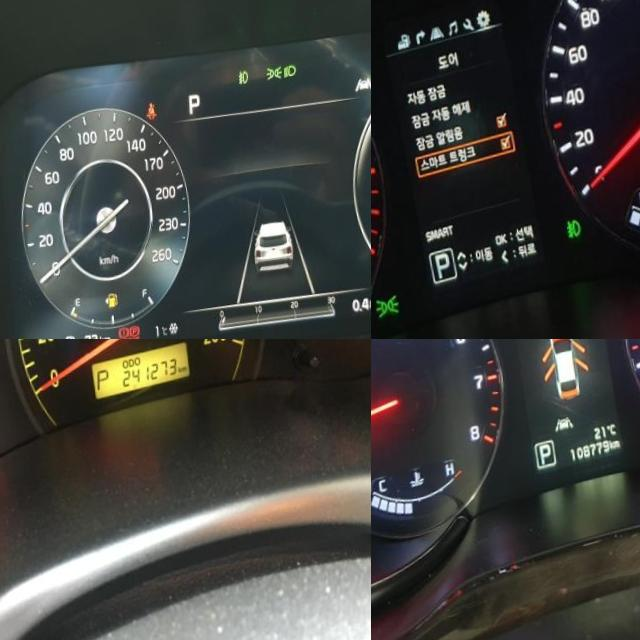FrontFogLight: (557, 228, 576, 253), (234, 78, 246, 96)
Low beam: (280, 75, 293, 90)
Low fuel level: (102, 297, 113, 314)
SideLamp: (371, 297, 393, 325), (262, 76, 279, 92)
